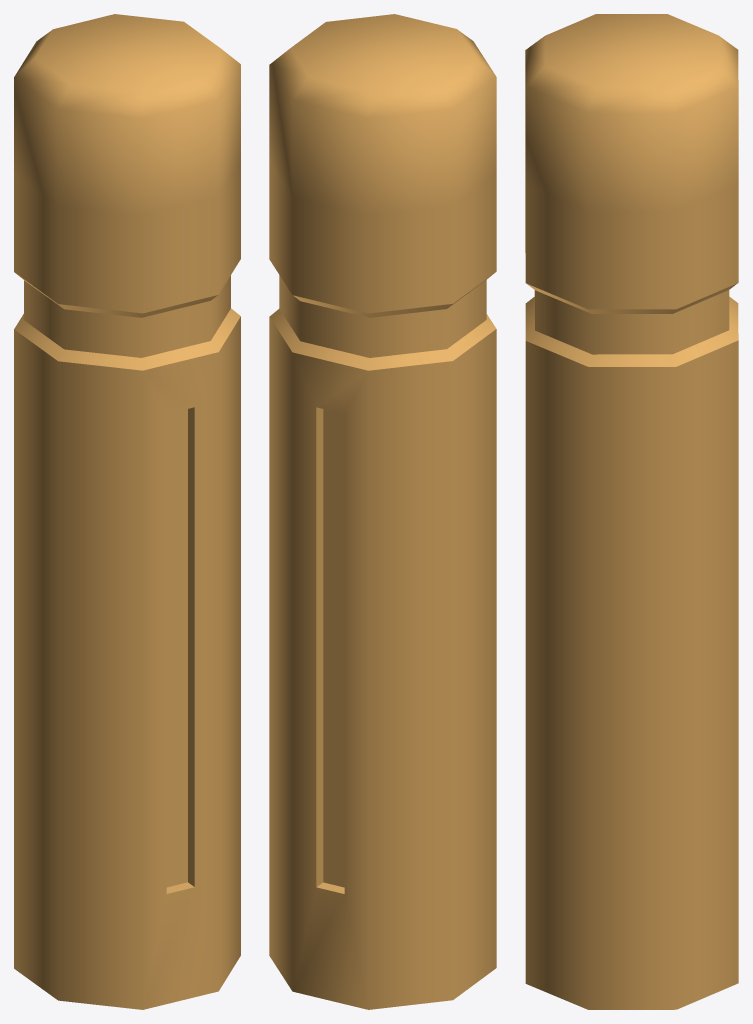
The model's file is sm_corner.fbx.
The picture shows the model from 3 angles, left to right: view 1: azimuth 30°, elevation 25°; view 2: azimuth 150°, elevation 25°; view 3: azimuth 270°, elevation 25°; orthographic projection.
Parts seen in each view (by area): view 1: sm_corner; view 2: sm_corner; view 3: sm_corner.
Part boxes in pixels (x1,y1,x2,y2): sm_corner: (14,14,240,1009); sm_corner: (269,14,496,1009); sm_corner: (525,14,738,1009).
Bounding box in the file's own units: 0.1902 × 0.9 × 0.1902.
